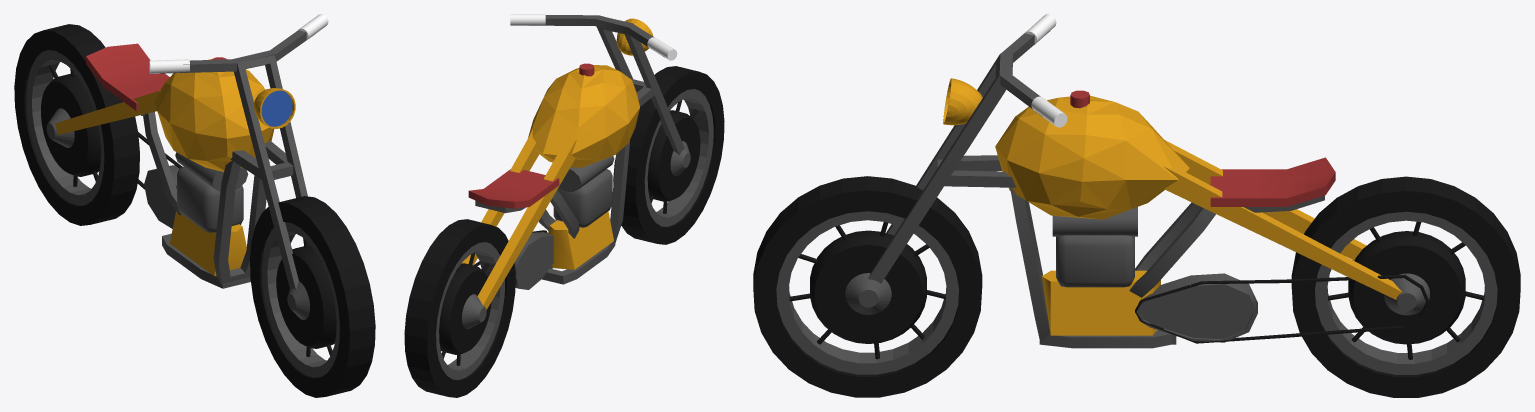
The model's file is bike.gltf.
3 views of the same model, side by side, from view 1: azimuth 30°, elevation 25°; view 2: azimuth 150°, elevation 25°; view 3: azimuth 270°, elevation 25° (orthographic). The views are drawn at different scales.
Visible parts, largest first — view 1: Tube004; view 2: Tube004; view 3: Tube004.
Boxes of the visible parts, left/top/right/bottom form: Tube004: left=14, top=14, right=375, bottom=397; Tube004: left=404, top=14, right=724, bottom=397; Tube004: left=753, top=14, right=1520, bottom=397.
Bounding box in the file's own units: 15.76 × 23.7 × 49.97.
